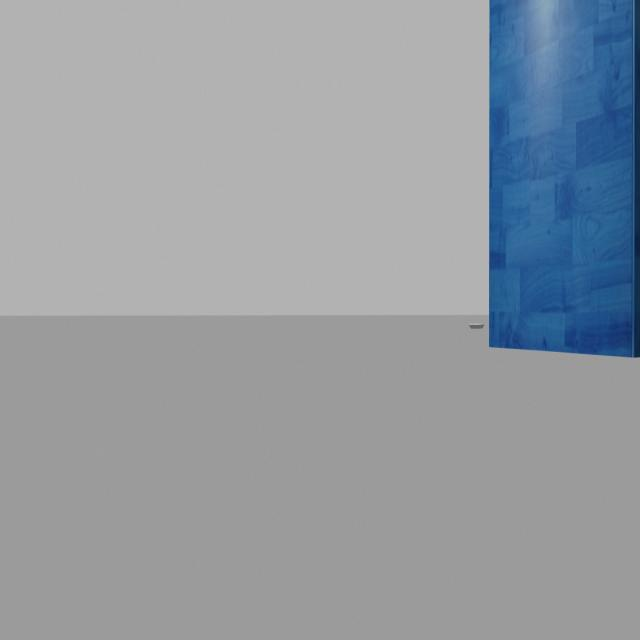bowl: (467, 316, 489, 334)
shelf: (483, 0, 640, 369)
